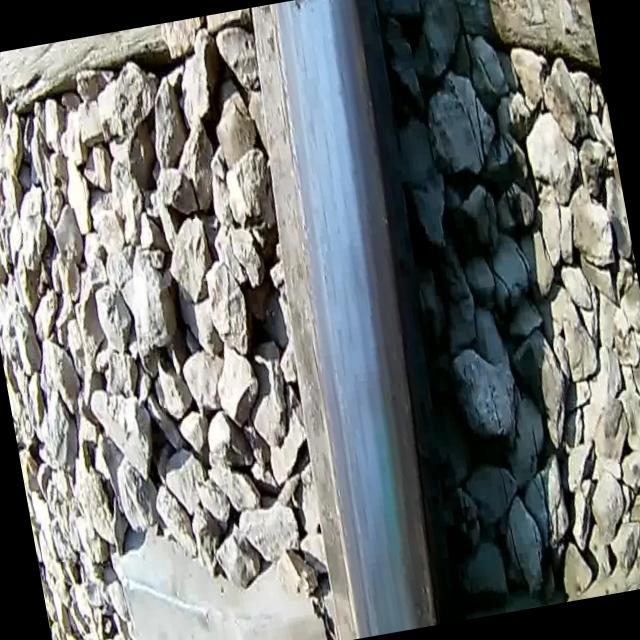Squats: (278, 0, 345, 22)
